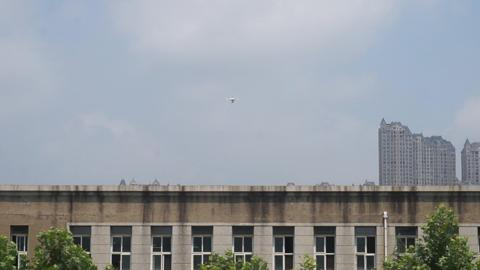UAV: (226, 98, 239, 104)
